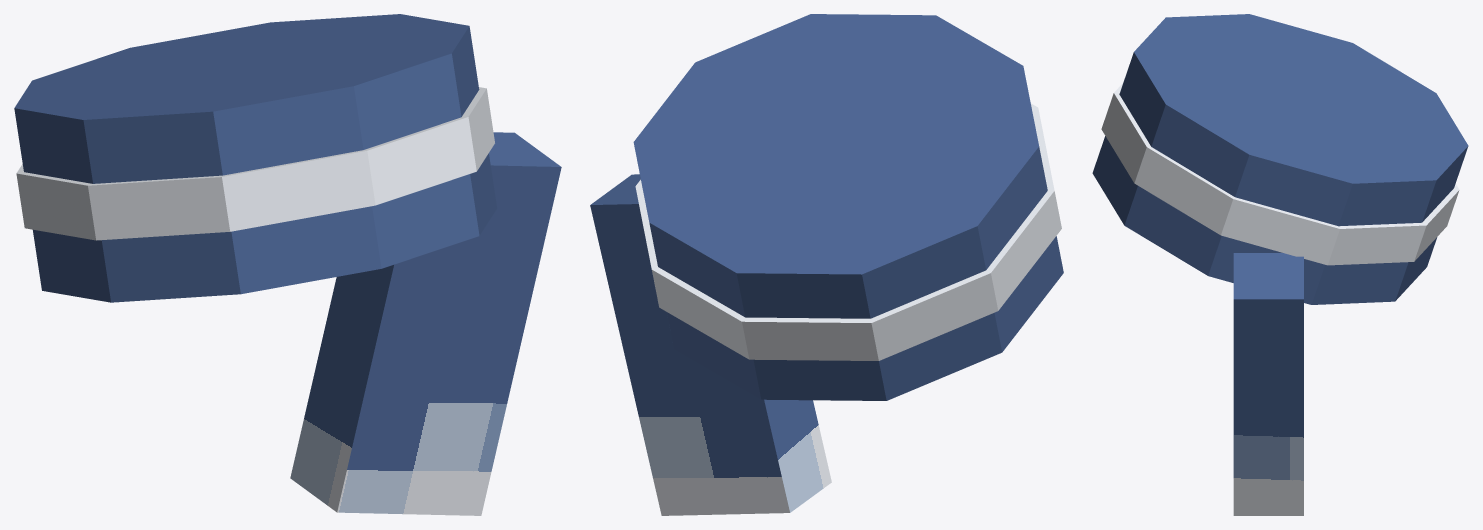
The model's file is outfit_scarf.glb.
3 views of the same model, side by side, from view 1: azimuth 30°, elevation 25°; view 2: azimuth 150°, elevation 25°; view 3: azimuth 270°, elevation 25° (orthographic). The views are drawn at different scales.
Visible parts, largest first — view 1: outfit_scarf; view 2: outfit_scarf; view 3: outfit_scarf.
Part boxes in pixels (x1,y1,x2,y2): outfit_scarf: (14,14,561,515); outfit_scarf: (590,14,1063,515); outfit_scarf: (1092,14,1468,515).
Size of the model in its own units: 0.3504 by 0.3715 by 0.3221.
Materials: 1 (1 with a texture image).
